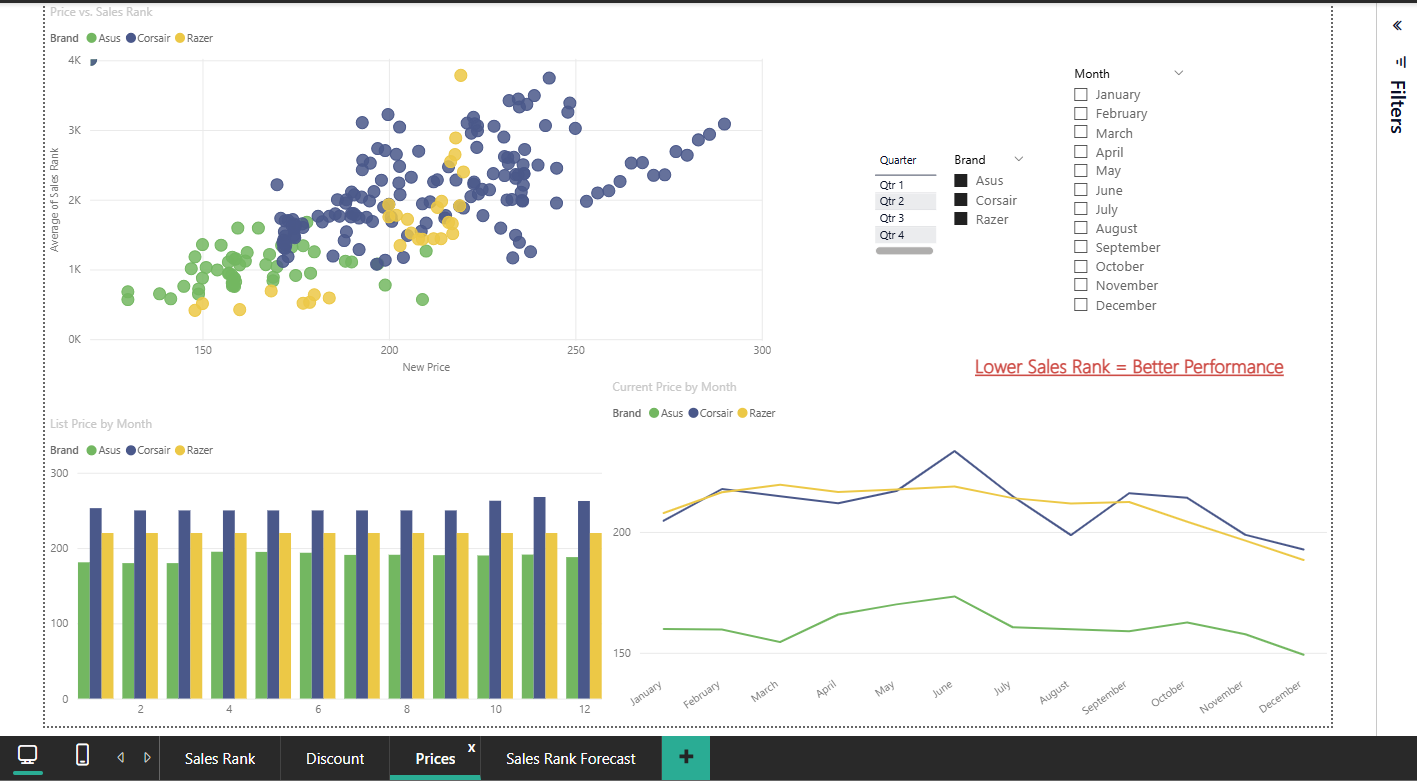

Layout of this report page (visuals, bound fields, positions):
{"tool":"powerbi","page":{"name":"Prices","canvas":[1280,720],"ordinal":2},"visuals":[{"type":"scatterChart","title":"Price vs. Sales Rank","fields":{"X":["All_Keyboards.New Price"],"Y":["Avg(All_Keyboards.Sales Rank)"],"Series":["All_Keyboards.Brand"]},"box":[0,0,727.5,372.8],"z":0},{"type":"clusteredColumnChart","title":"List Price by Month","fields":{"Category":["All_Keyboards.Month"],"Series":["All_Keyboards.Brand"],"Y":["Avg(All_Keyboards.List Price)"]},"box":[0,410.4,559.2,309.4],"z":1000},{"type":"slicer","fields":{"Values":["All_Keyboards.Brand"]},"box":[891.9,143.1,94.5,113.2],"z":2000},{"type":"lineChart","title":"Current Price by Month","fields":{"Category":["All_Keyboards.Year-Month.Variation.Date Hierarchy.Month"],"Y":["Avg(All_Keyboards.New Price)"],"Series":["All_Keyboards.Brand"]},"box":[559.2,372.8,721,348.2],"z":3000},{"type":"slicer","fields":{"Values":["All_Keyboards.Time.Variation.Date Hierarchy.Month"]},"box":[1011.3,57.2,134.3,258.7],"z":4000},{"type":"textbox","box":[920.4,343,343,47.9],"z":5000},{"type":"tableEx","fields":{"Values":["All_Keyboards.Time.Variation.Date Hierarchy.Quarter"]},"box":[819.8,143.1,72.1,113.2],"z":5001}]}

Visuals, with their boxes on the page's 1280x720 design canvas (x1, y1, x2, y2). These are canvas units, not pixel positions in the 1417x781 screenshot, which may show the page scaled, cropped or inside an application window:
"Price vs. Sales Rank" scatterChart: [0, 0, 728, 373]
"List Price by Month" clusteredColumnChart: [0, 410, 559, 720]
slicer - All_Keyboards.Brand: [892, 143, 986, 256]
"Current Price by Month" lineChart: [559, 373, 1280, 721]
slicer - All_Keyboards.Time.Variation.Date Hierarchy.Month: [1011, 57, 1146, 316]
textbox: [920, 343, 1263, 391]
tableEx - All_Keyboards.Time.Variation.Date Hierarchy.Quarter: [820, 143, 892, 256]
